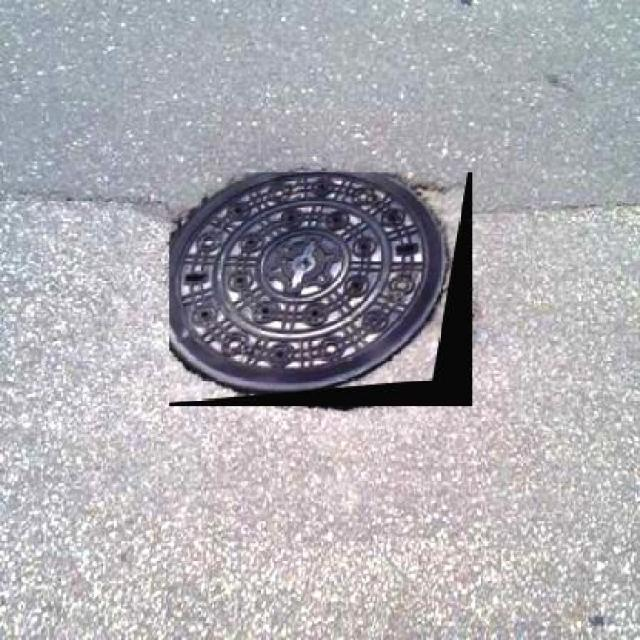Manhole: (169, 172, 472, 406)
